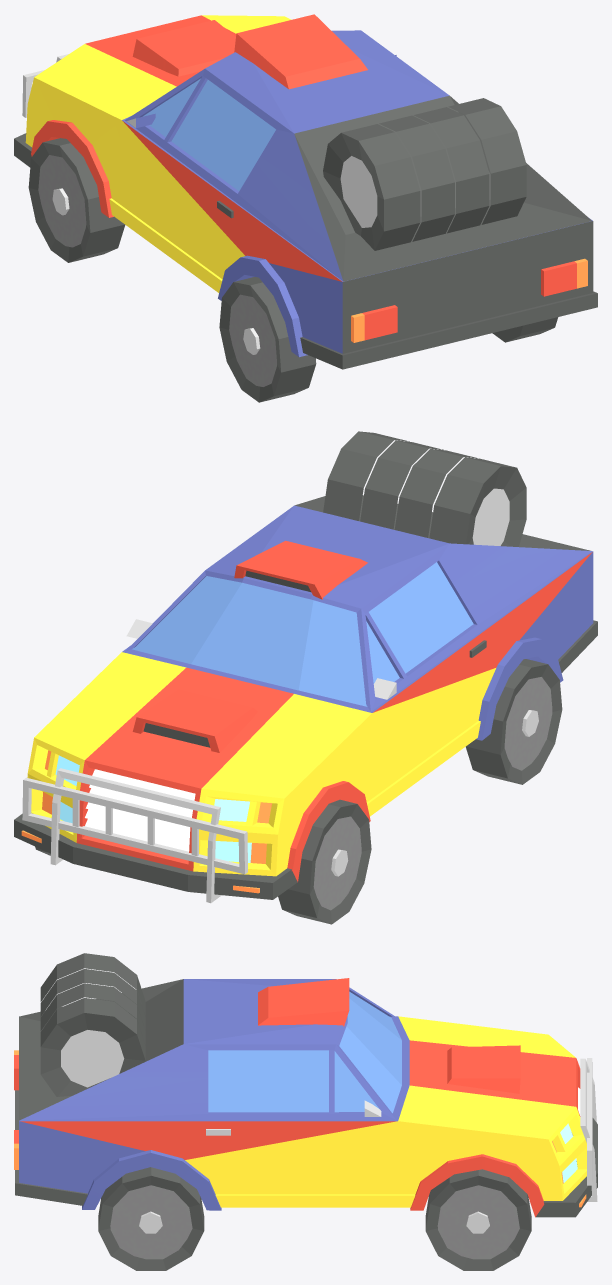
Rendered from transport_jeep.008.glb.
3 renders of one model, top to bottom at view 1: azimuth 30°, elevation 25°; view 2: azimuth 150°, elevation 25°; view 3: azimuth 270°, elevation 25°, orthographic. The views are drawn at different scales.
Visible parts, largest first — view 1: transport_jeep.008(Clone); view 2: transport_jeep.008(Clone); view 3: transport_jeep.008(Clone).
Boxes of the visible parts, bbox=[...] form: transport_jeep.008(Clone): bbox=[14, 14, 597, 402]; transport_jeep.008(Clone): bbox=[14, 431, 597, 924]; transport_jeep.008(Clone): bbox=[14, 953, 597, 1270].
Bounding box in the file's own units: 1.76 × 1.59 × 3.68.
1 material, 1 textured.
